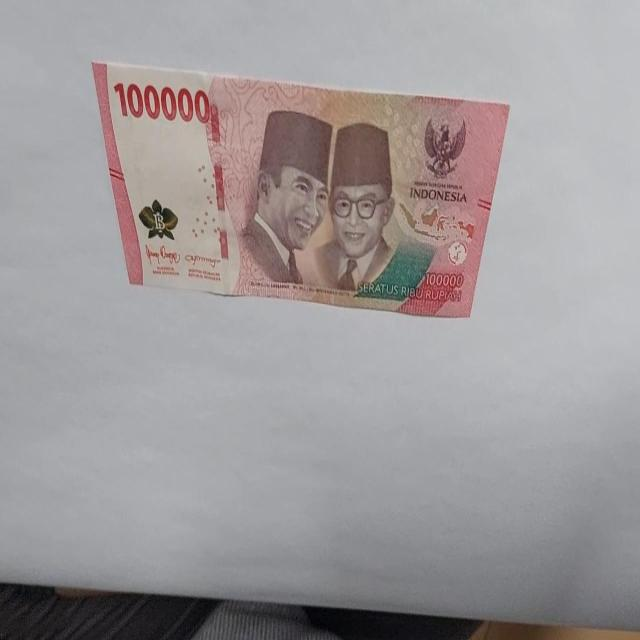Kertas: (91, 60, 511, 319), (113, 78, 211, 125)
